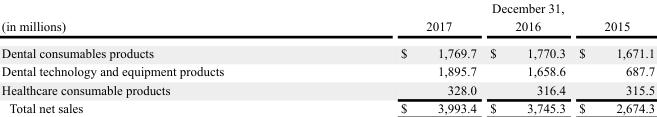table: (0, 0, 654, 114)
table column: (0, 0, 311, 114), (311, 0, 482, 114), (482, 0, 571, 114), (571, 0, 654, 114)
table column header: (0, 0, 654, 39)
table row: (0, 16, 654, 39), (0, 39, 654, 62), (0, 62, 654, 80), (0, 80, 654, 98), (0, 0, 654, 16), (0, 98, 654, 114)
table spanning cell: (0, 0, 311, 39), (311, 0, 654, 16)
